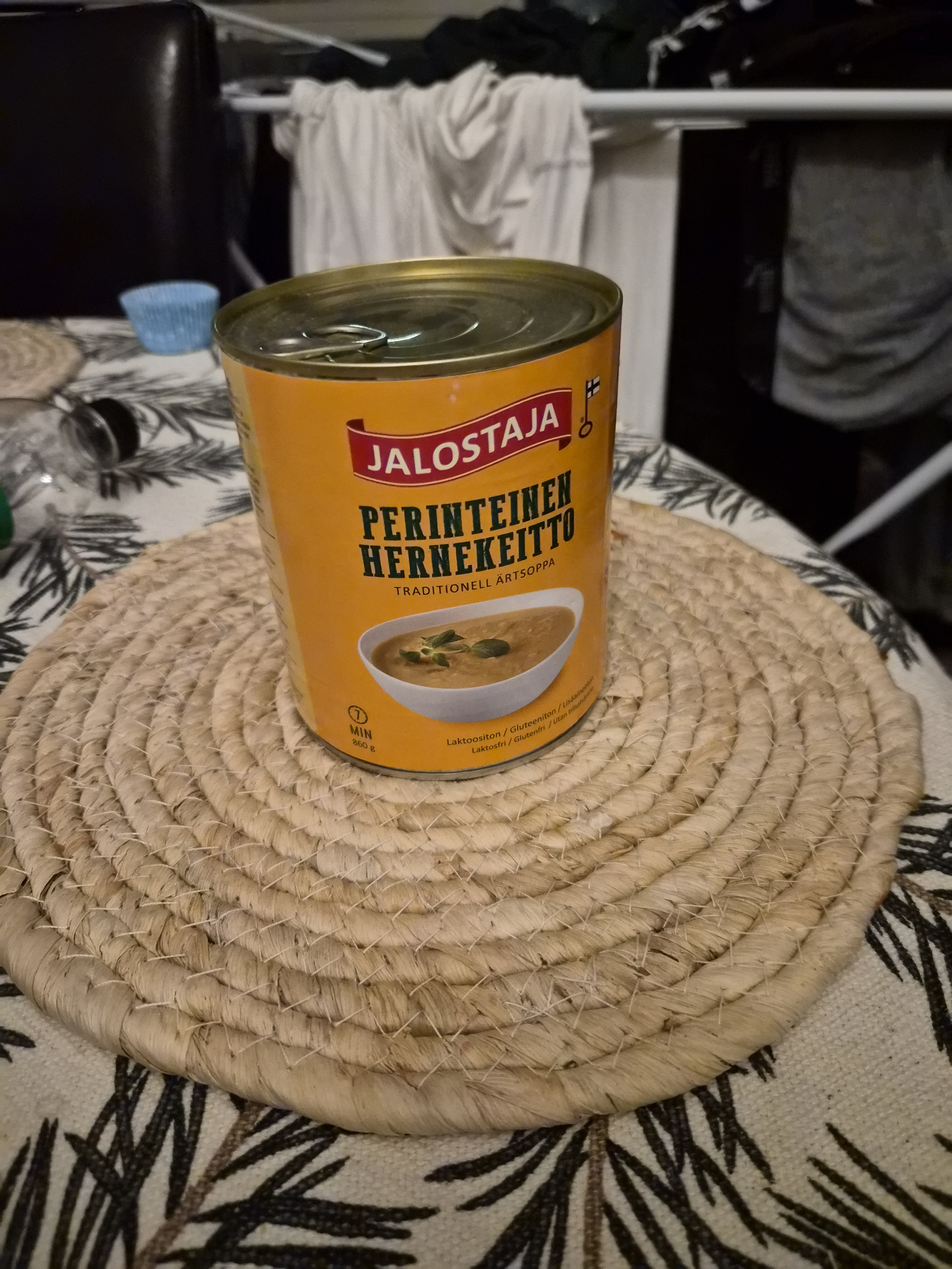Konservburk: (216, 248, 624, 780)
